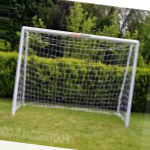goals: (12, 25, 140, 126)
